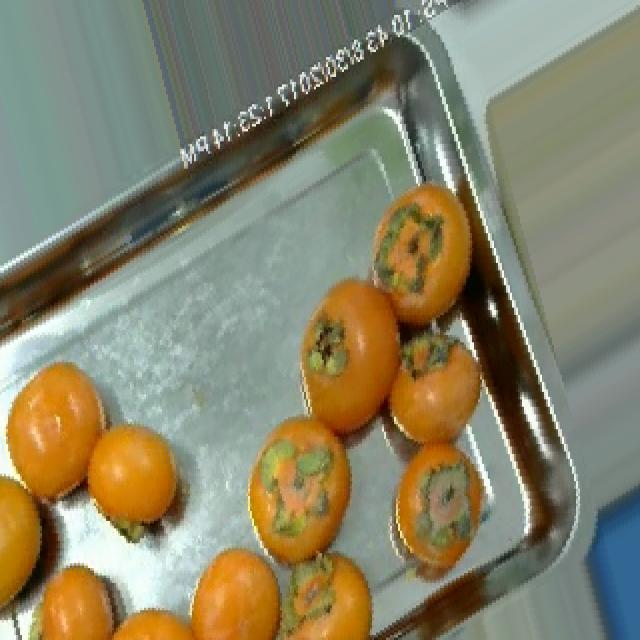Fruit: (232, 397, 380, 583), (352, 154, 488, 347), (374, 432, 512, 605), (0, 342, 126, 528), (68, 402, 206, 558), (180, 531, 288, 640), (0, 457, 50, 632)
